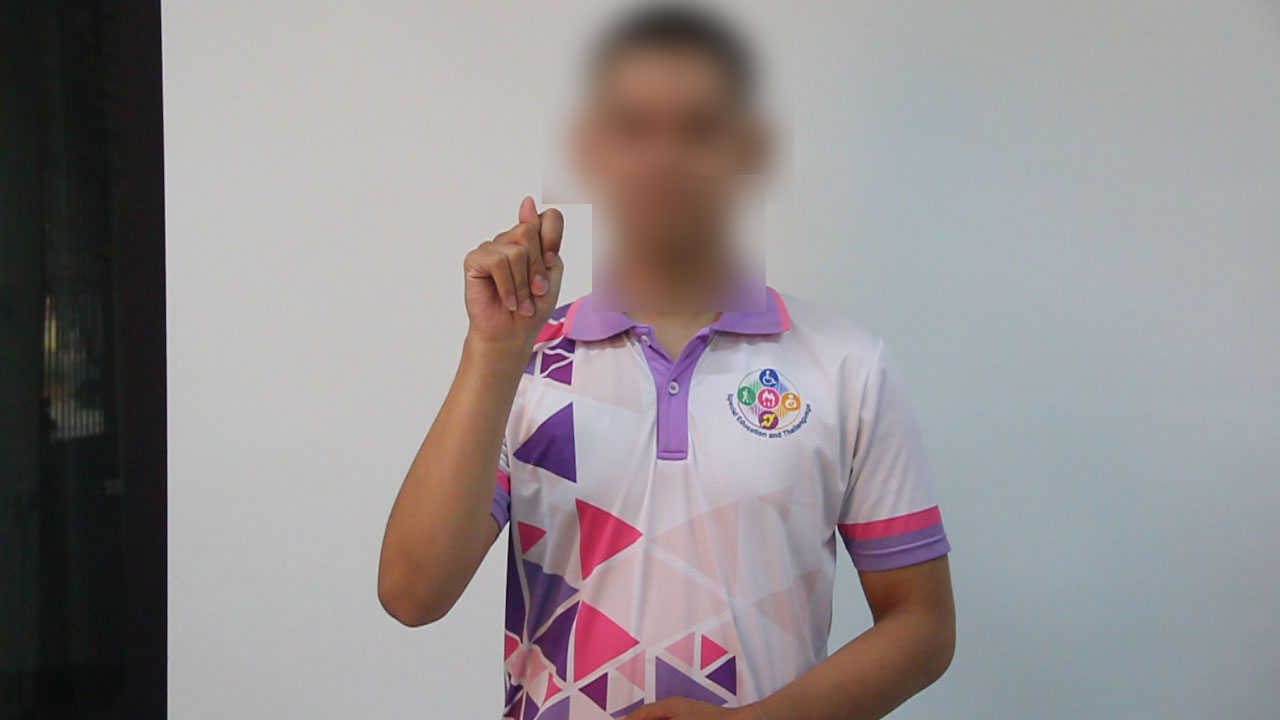tor: (442, 186, 581, 365)
